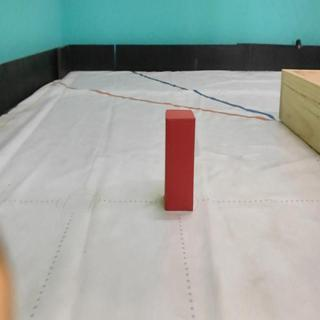redbox: (164, 107, 196, 213)
